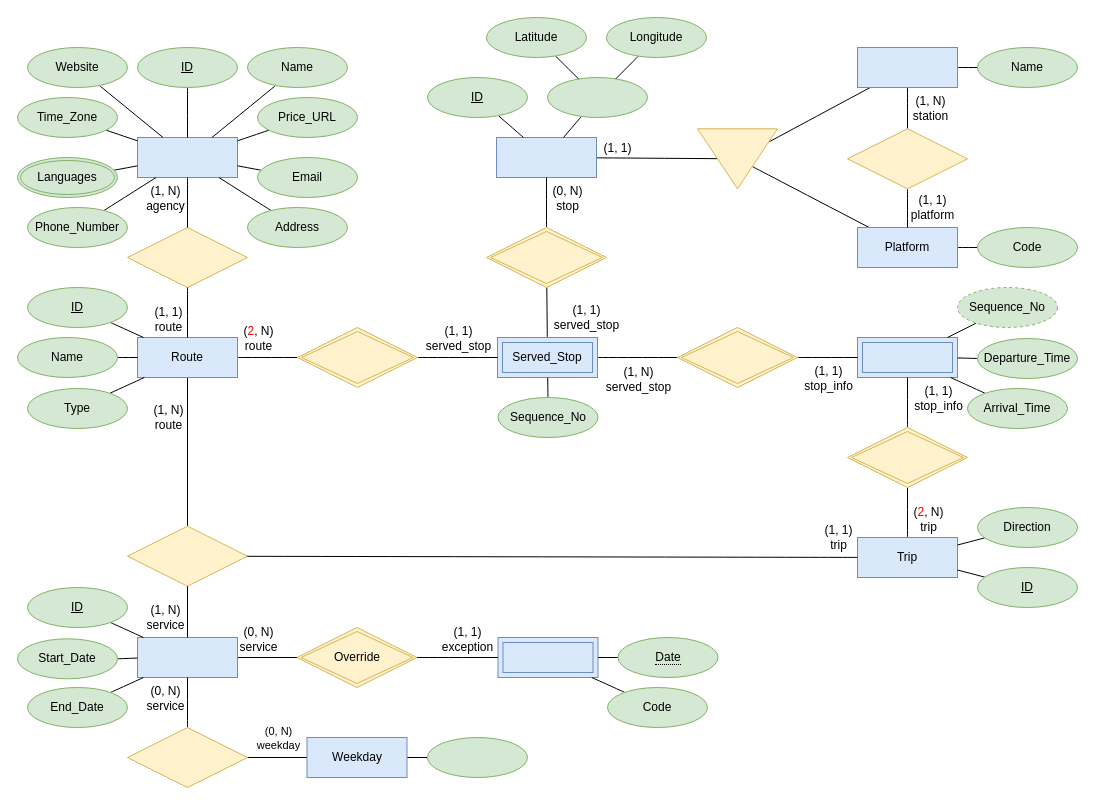
Image size: 1095x805. Some labels were removed from this diagram. Here are the shapes that lost their labels. From the top down, the centre of each, then its label:
(x=907, y=67): Station
(x=597, y=97): C oordinates
(x=187, y=157): Agency
(x=546, y=157): Stop
(x=737, y=158): IS A
(x=907, y=158): Contain
(x=187, y=257): Operate
(x=546, y=257): Located_At
(x=357, y=357): Include
(x=737, y=357): Follow
(x=907, y=357): Stop_Info
(x=907, y=457): Stop_At
(x=187, y=555): Assign_To
(x=187, y=657): Service
(x=547, y=657): Exception
(x=187, y=757): Work_on
(x=477, y=757): Day
